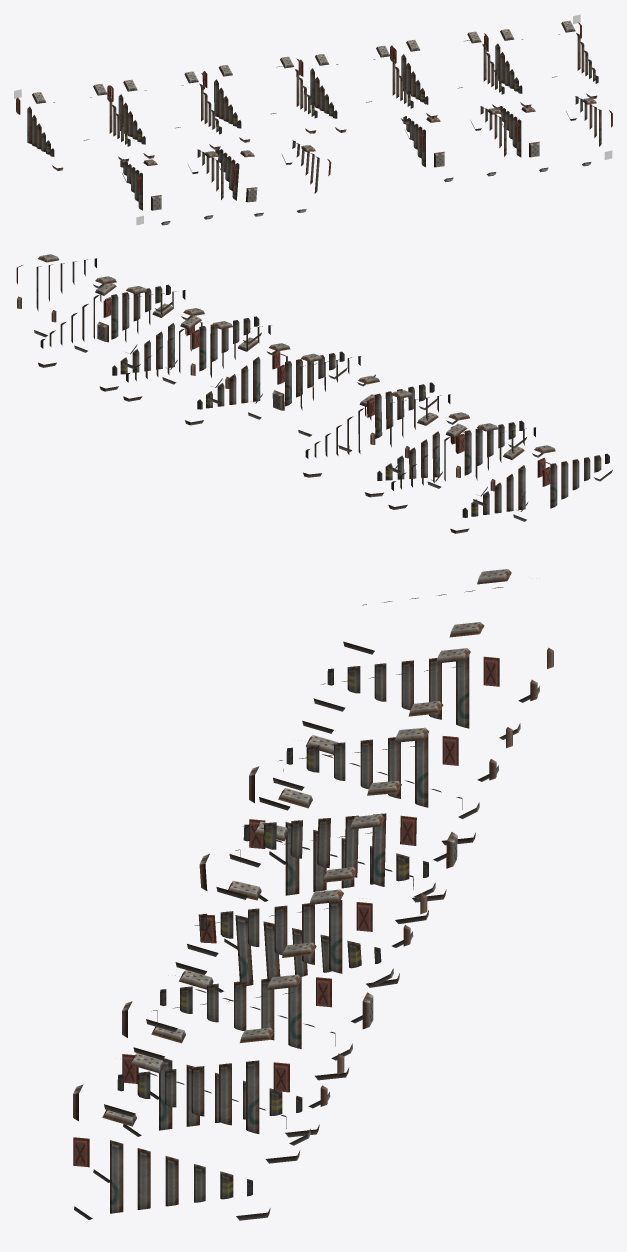
File: prop_static_tan_container_01_02_0.glb
The picture shows the model from 3 angles, top to bottom: view 1: azimuth 30°, elevation 25°; view 2: azimuth 150°, elevation 25°; view 3: azimuth 270°, elevation 25°; orthographic projection. The views are drawn at different scales.
Visible parts, largest first — view 1: tan_container_01_02_LOD0; view 2: tan_container_01_02_LOD0; view 3: tan_container_01_02_LOD0.
Part boxes in pixels (x1=…): tan_container_01_02_LOD0: x1=16, y1=20, x2=612, y2=225; tan_container_01_02_LOD0: x1=16, y1=254, x2=612, y2=533; tan_container_01_02_LOD0: x1=73, y1=569, x2=553, y2=1220.
Size of what is drawn, in the model's own units: 12.48 by 2.73 by 5.08.
3 materials, 1 textured.
